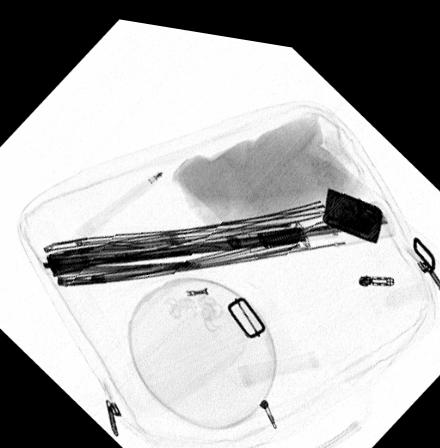Lighter: (322, 176, 383, 230)
